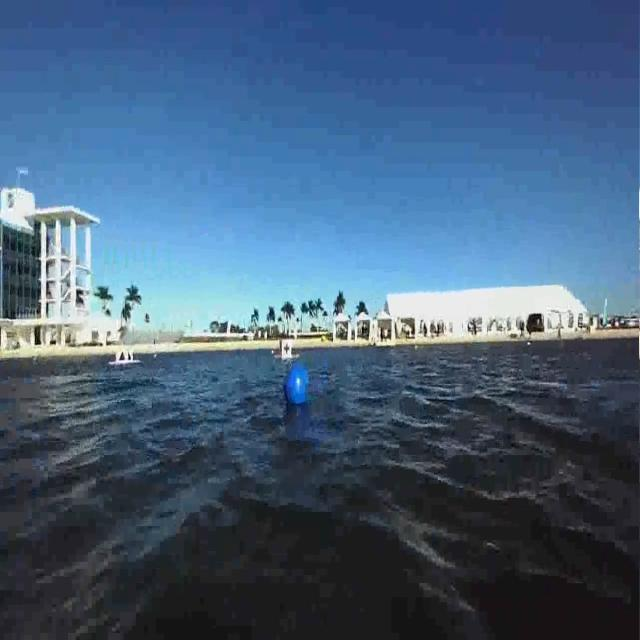blue-buoy: (284, 365, 307, 408)
